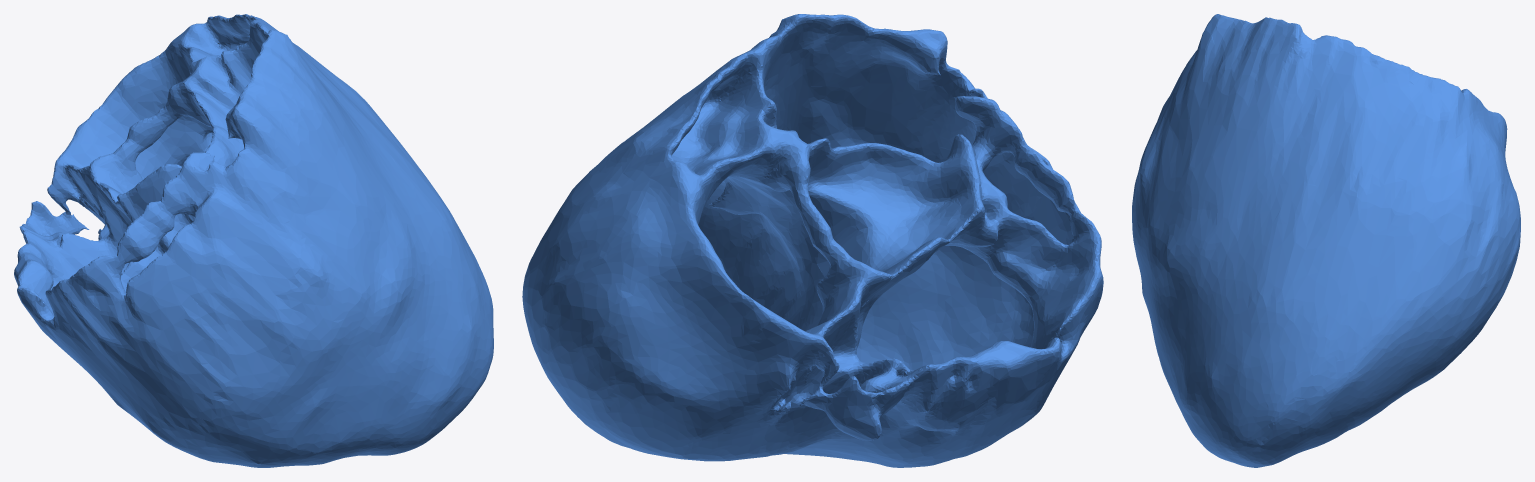
File: 3DPX-021281.glb
The picture shows the model from 3 angles, left to right: view 1: azimuth 30°, elevation 25°; view 2: azimuth 150°, elevation 25°; view 3: azimuth 270°, elevation 25°; orthographic projection. The views are drawn at different scales.
Visible parts, largest first — view 1: aa_heart2-repaired-nih3d; view 2: aa_heart2-repaired-nih3d; view 3: aa_heart2-repaired-nih3d.
Part boxes in pixels (x1,y1,x2,y2): aa_heart2-repaired-nih3d: (14,14,493,467); aa_heart2-repaired-nih3d: (522,14,1103,467); aa_heart2-repaired-nih3d: (1132,14,1520,467).
Bounding box in the file's own units: 149 × 131 × 120.
